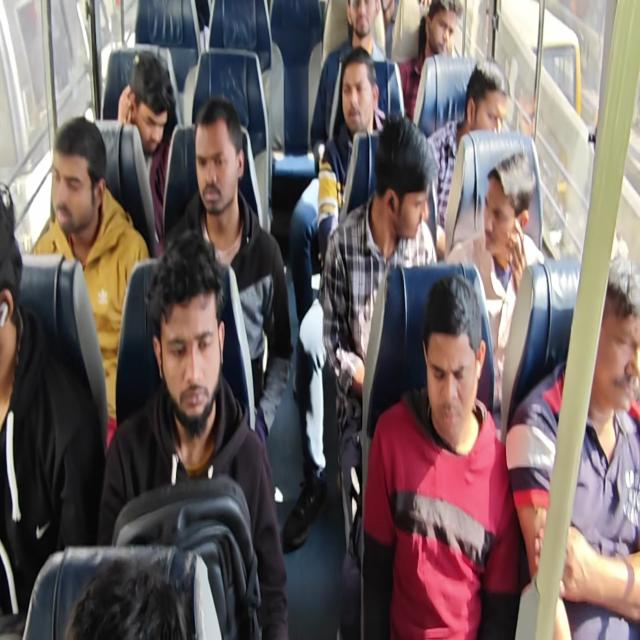person: (148, 233, 229, 434), (412, 273, 493, 437), (582, 252, 640, 461), (46, 100, 115, 260), (75, 561, 201, 640), (375, 115, 435, 245), (189, 93, 245, 215), (483, 139, 534, 272), (121, 49, 170, 153), (0, 182, 25, 382), (338, 40, 378, 154), (466, 56, 512, 138), (424, 1, 462, 64), (345, 1, 381, 46)
